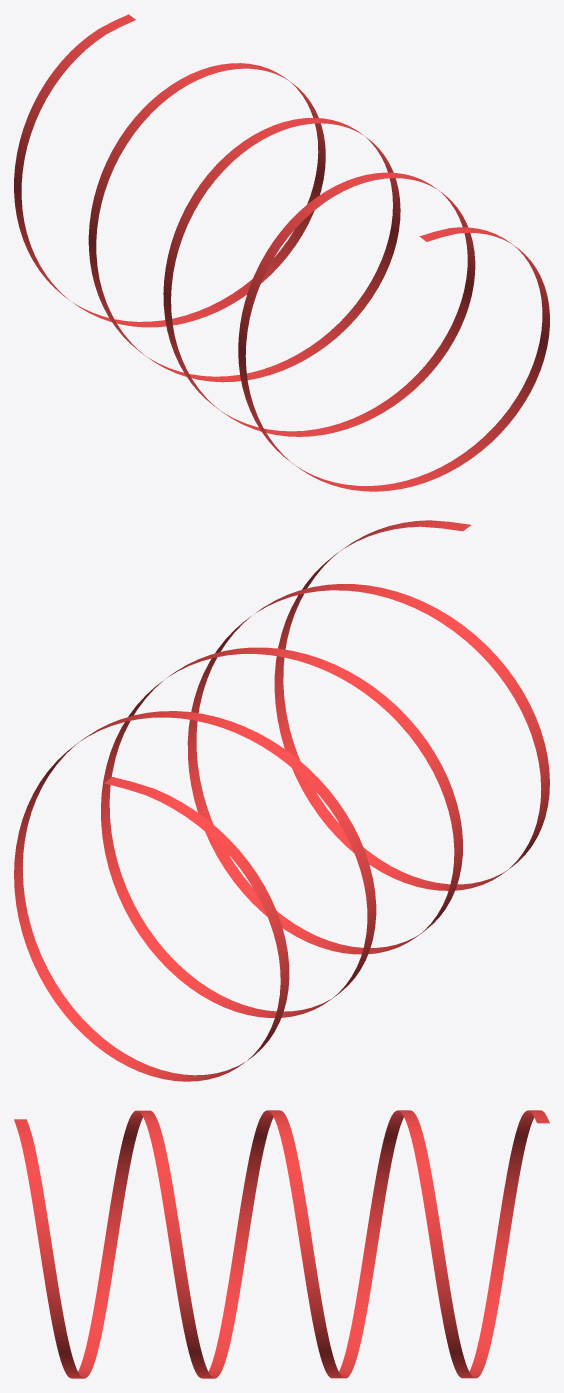
File: helix.obj
3 renders of one model, top to bottom at view 1: azimuth 30°, elevation 25°; view 2: azimuth 150°, elevation 25°; view 3: azimuth 270°, elevation 25°, orthographic. The views are drawn at different scales.
Parts seen in each view (by area): view 1: Helix; view 2: Helix; view 3: Helix.
Boxes of the visible parts, <box> form: Helix: <box>14,14,549,491</box>; Helix: <box>14,520,549,1081</box>; Helix: <box>14,1110,549,1378</box>.
Size of the model in its own units: 10 by 10 by 20.
